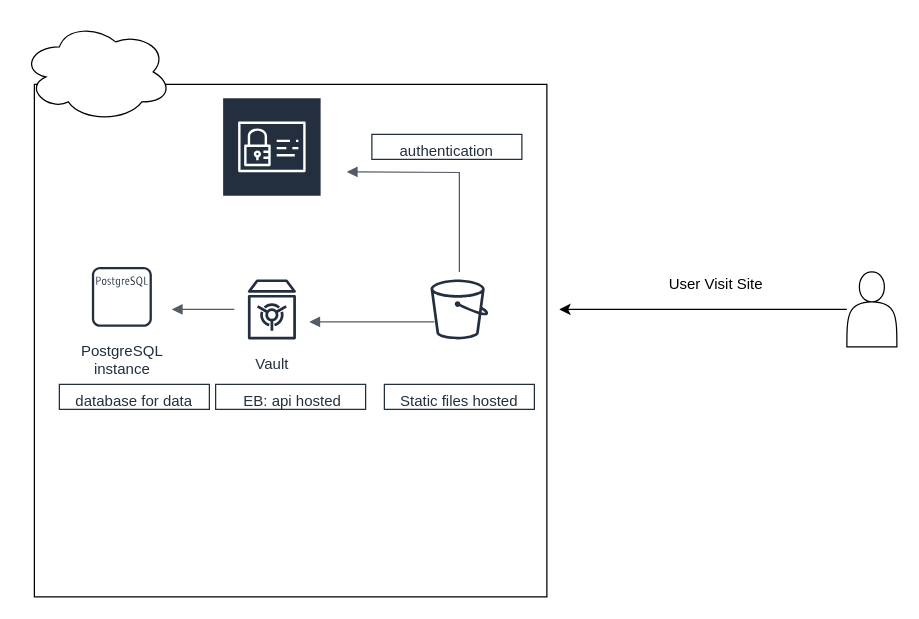
Image size: 919x619. Some labels were removed from this diagram. Here are the shapes that lost their labels. From the top down, the centre of each, then its label:
At pixel 96 71: "AWS".
At pixel 271 171: "AWS Identity and Access Management".
At pixel 459 309: "Bucket".
